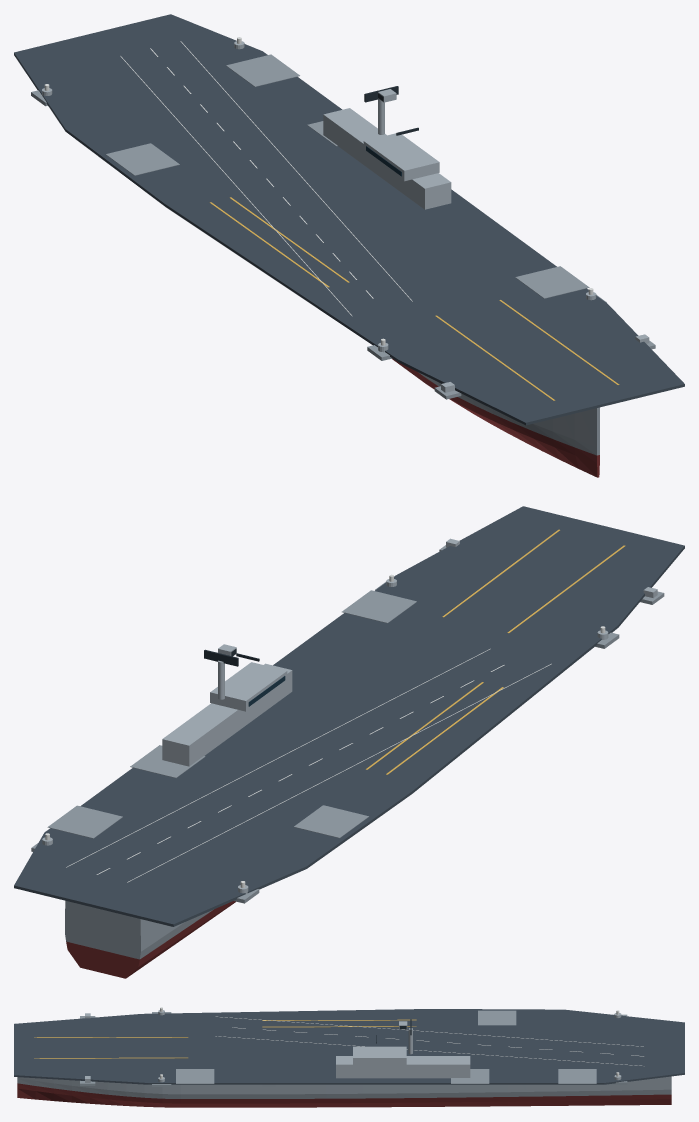
The model's file is ran_cvn_commonwealth_1984.obj.
3 views of the same model, one above another, from view 1: azimuth 30°, elevation 25°; view 2: azimuth 150°, elevation 25°; view 3: azimuth 270°, elevation 25° (orthographic). The views are drawn at different scales.
Visible parts, largest first — view 1: FlightDeck, Island, UnderwaterHull, Hull, Bridge, Elevator_1, Elevator_4, Elevator_3; view 2: FlightDeck, Hull, Island, UnderwaterHull, Bridge, Elevator_1, Elevator_3, Elevator_4, Elevator_2; view 3: FlightDeck, Hull, UnderwaterHull, Island, Bridge, Elevator_4, Elevator_1, Elevator_3, Elevator_2, LandingEdge_-1, LandingEdge_1, Catapult_1 (+1 smaller).
Part boxes in pixels (box(x1,y1,x2,y2)): FlightDeck: box(14, 14, 684, 425); Island: box(323, 108, 451, 209); UnderwaterHull: box(392, 358, 599, 477); Hull: box(418, 372, 599, 455); Bridge: box(363, 133, 439, 181); Elevator_1: box(515, 266, 589, 298); Elevator_4: box(106, 143, 179, 175); Elevator_3: box(226, 54, 299, 86); FlightDeck: box(14, 506, 684, 926); Hull: box(65, 900, 213, 959); Island: box(162, 663, 292, 766); UnderwaterHull: box(66, 901, 235, 978); Bridge: box(210, 662, 287, 711); Elevator_1: box(342, 590, 416, 623); Elevator_3: box(47, 805, 122, 838); Elevator_4: box(294, 805, 368, 838); Elevator_2: box(130, 745, 205, 777); FlightDeck: box(14, 1009, 684, 1084); Hull: box(17, 1076, 671, 1098); UnderwaterHull: box(17, 1083, 671, 1107); Island: box(336, 1056, 470, 1078); Bridge: box(353, 1046, 406, 1064); Elevator_4: box(478, 1010, 516, 1025); Elevator_1: box(176, 1069, 214, 1083); Elevator_3: box(558, 1069, 596, 1083); Elevator_2: box(451, 1069, 489, 1083); LandingEdge_-1: box(215, 1016, 643, 1046); LandingEdge_1: box(215, 1036, 644, 1066); Catapult_1: box(34, 1057, 187, 1058).
Size of the model in its own units: 1.35 by 0.848 by 5.1.
